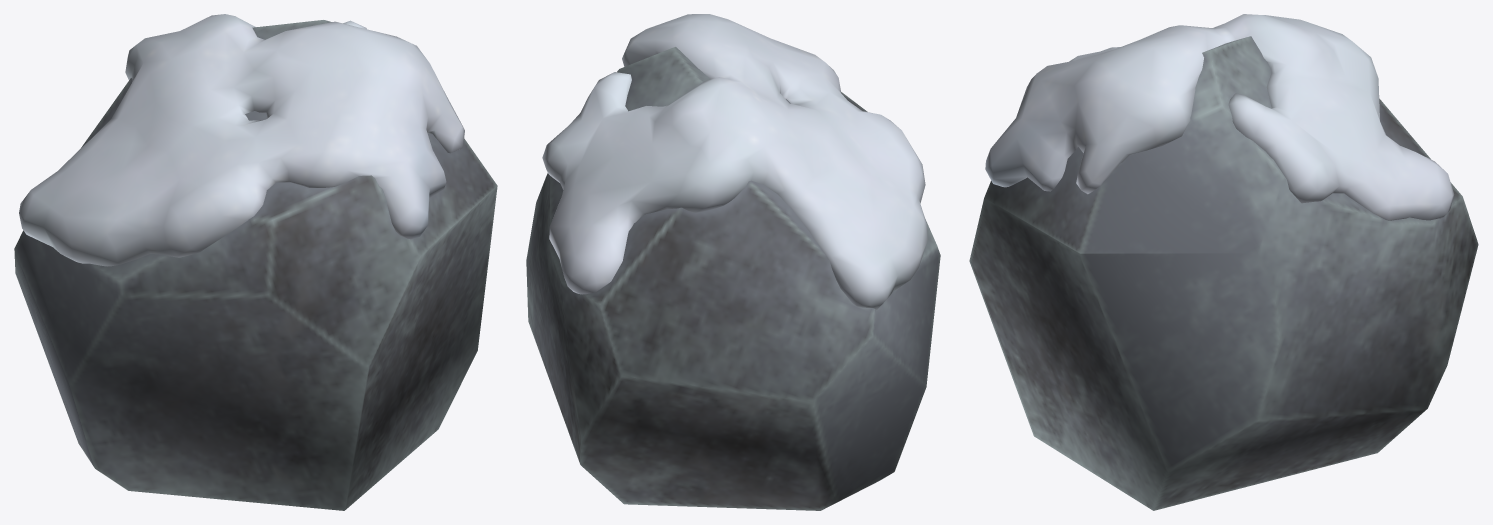
File: Roca 1.glb
3 renders of one model, left to right at view 1: azimuth 30°, elevation 25°; view 2: azimuth 150°, elevation 25°; view 3: azimuth 270°, elevation 25°, orthographic. The views are drawn at different scales.
Parts seen in each view (by area): view 1: Roca1_low; view 2: Roca1_low; view 3: Roca1_low.
Boxes of the visible parts, box(x1,y1,x2,y2) form: Roca1_low: box(14, 14, 497, 510); Roca1_low: box(526, 14, 940, 510); Roca1_low: box(969, 14, 1478, 510).
Bounding box in the file's own units: 4.14 × 4.17 × 4.52.
Materials: 1 (1 with a texture image).
